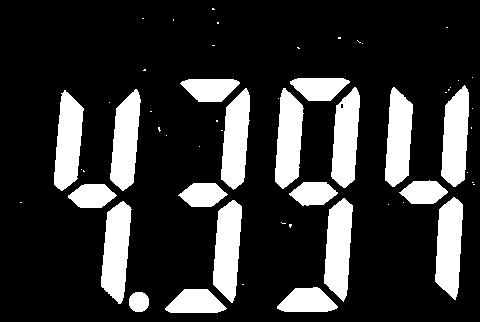3: (165, 74, 250, 314)
4: (50, 89, 142, 306), (383, 83, 474, 299)
9: (270, 76, 362, 315)
dot: (128, 288, 151, 312)
